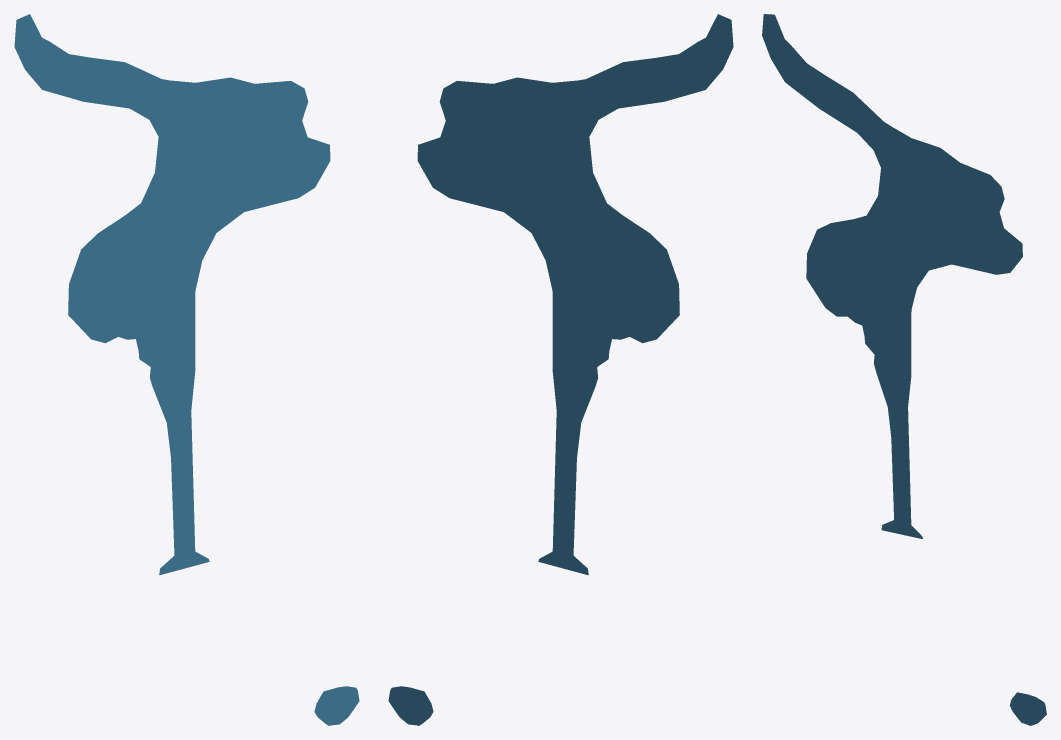
The model's file is water.obj.
3 views of the same model, side by side, from view 1: azimuth 30°, elevation 25°; view 2: azimuth 150°, elevation 25°; view 3: azimuth 330°, elevation 25° (orthographic). The views are drawn at different scales.
Visible parts, largest first — view 1: hefei_luogang_park_water; view 2: hefei_luogang_park_water; view 3: hefei_luogang_park_water.
Boxes of the visible parts, x1,y1,x2,y2 form: hefei_luogang_park_water: (14,14,359,725); hefei_luogang_park_water: (388,14,733,725); hefei_luogang_park_water: (762,14,1046,725).
Size of the model in its own units: 161 by 350 by 0.
